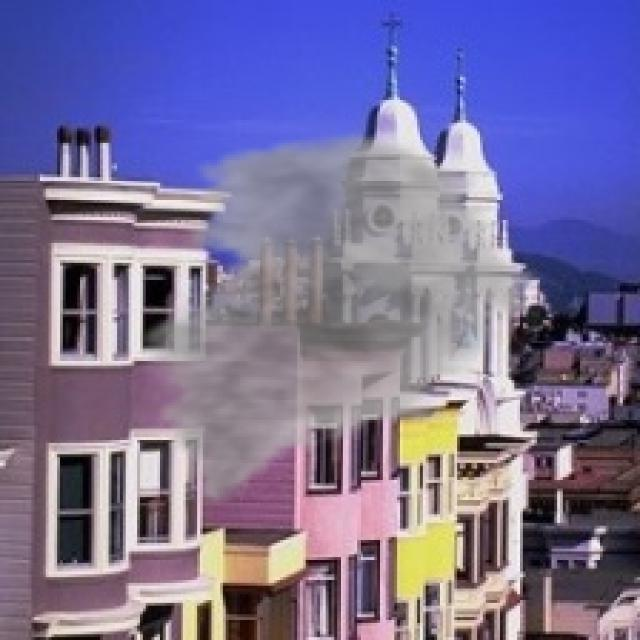Smoke: (128, 128, 548, 508)
